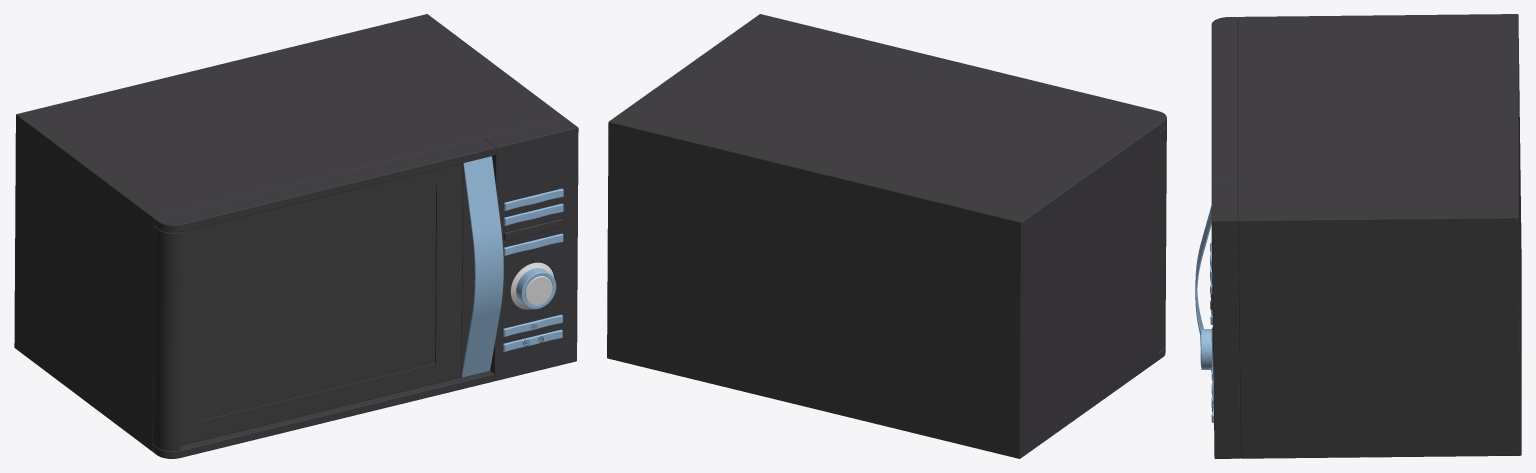
Rendered from SM_Microwave.fbx.
3 renders of one model, left to right at view 1: azimuth 30°, elevation 25°; view 2: azimuth 150°, elevation 25°; view 3: azimuth 270°, elevation 25°, orthographic.
Parts seen in each view (by area): view 1: Object_60; view 2: Object_60; view 3: Object_60.
Part boxes in pixels (left/top/right/bottom): Object_60: left=14, top=14, right=578, bottom=458; Object_60: left=607, top=14, right=1166, bottom=458; Object_60: left=1195, top=14, right=1521, bottom=458.
Size of the model in its own units: 55 by 30.4 by 37.17.
